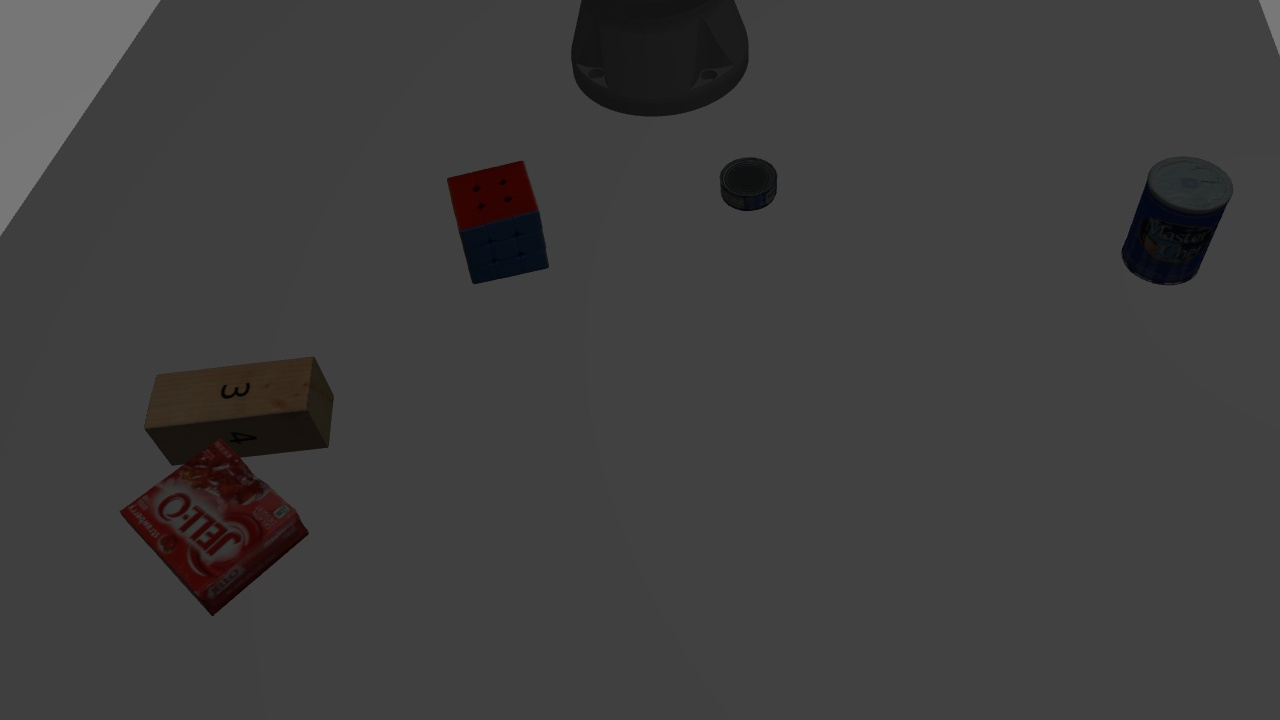gelatin_box: (116, 448, 316, 618)
master_chef_can: (1120, 147, 1230, 301)
rubiks_cube: (443, 158, 555, 288)
tuna_fish_can: (715, 155, 789, 211)
wood_block: (142, 354, 339, 465), (136, 353, 142, 363)
